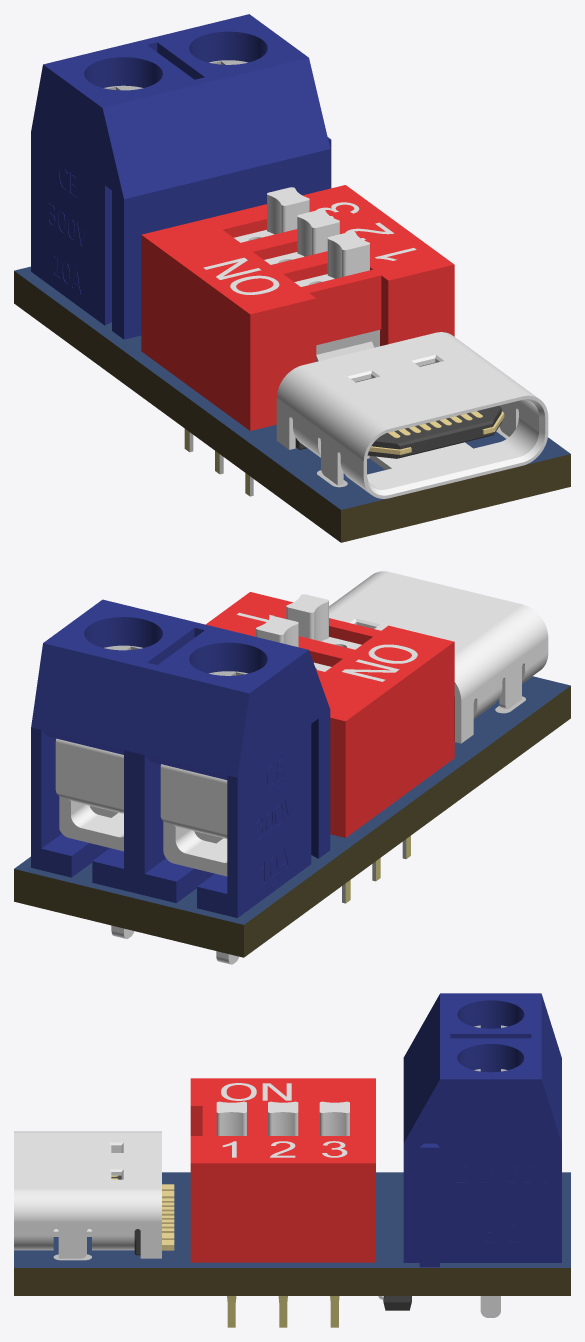
File: micro-USB-PD-board.glb
The picture shows the model from 3 angles, top to bottom: view 1: azimuth 30°, elevation 25°; view 2: azimuth 150°, elevation 25°; view 3: azimuth 270°, elevation 25°; orthographic projection. The views are drawn at different scales.
Visible parts, largest first — view 1: Screw-Terminal-P508_v1, DIP_SW-3P-T_v1_(6), USB_Type_C_Port_(SMD_Type)_v1_(24), Micro_USB_PD_Board_(7), USB_Type_C_Port_(SMD_Type)_v1; view 2: Screw-Terminal-P508_v1, DIP_SW-3P-T_v1_(6), Micro_USB_PD_Board_(7), USB_Type_C_Port_(SMD_Type)_v1_(24), Screw-Terminal-P508_v1_(4), Screw-Terminal-P508_v1_(2); view 3: Screw-Terminal-P508_v1, DIP_SW-3P-T_v1_(6), Micro_USB_PD_Board_(7), USB_Type_C_Port_(SMD_Type)_v1_(24), Screw-Terminal-P508_v1_(4).
Part boxes in pixels (left/top/right/bottom): Screw-Terminal-P508_v1: left=31, top=14, right=331, bottom=339; DIP_SW-3P-T_v1_(6): left=141, top=185, right=454, bottom=496; USB_Type_C_Port_(SMD_Type)_v1_(24): left=276, top=332, right=548, bottom=498; Micro_USB_PD_Board_(7): left=14, top=266, right=570, bottom=542; USB_Type_C_Port_(SMD_Type)_v1: left=367, top=405, right=504, bottom=458; Screw-Terminal-P508_v1: left=31, top=599, right=330, bottom=917; DIP_SW-3P-T_v1_(6): left=206, top=592, right=454, bottom=903; Micro_USB_PD_Board_(7): left=14, top=676, right=570, bottom=957; USB_Type_C_Port_(SMD_Type)_v1_(24): left=329, top=571, right=548, bottom=743; Screw-Terminal-P508_v1_(4): left=55, top=738, right=134, bottom=938; Screw-Terminal-P508_v1_(2): left=160, top=764, right=238, bottom=964; Screw-Terminal-P508_v1: left=403, top=993, right=561, bottom=1267; DIP_SW-3P-T_v1_(6): left=190, top=1078, right=375, bottom=1327; Micro_USB_PD_Board_(7): left=14, top=1172, right=570, bottom=1295; USB_Type_C_Port_(SMD_Type)_v1_(24): left=14, top=1131, right=161, bottom=1258; Screw-Terminal-P508_v1_(4): left=480, top=1296, right=500, bottom=1317.
Bounding box in the file's own units: 0.0111 × 0.014 × 0.0275.
